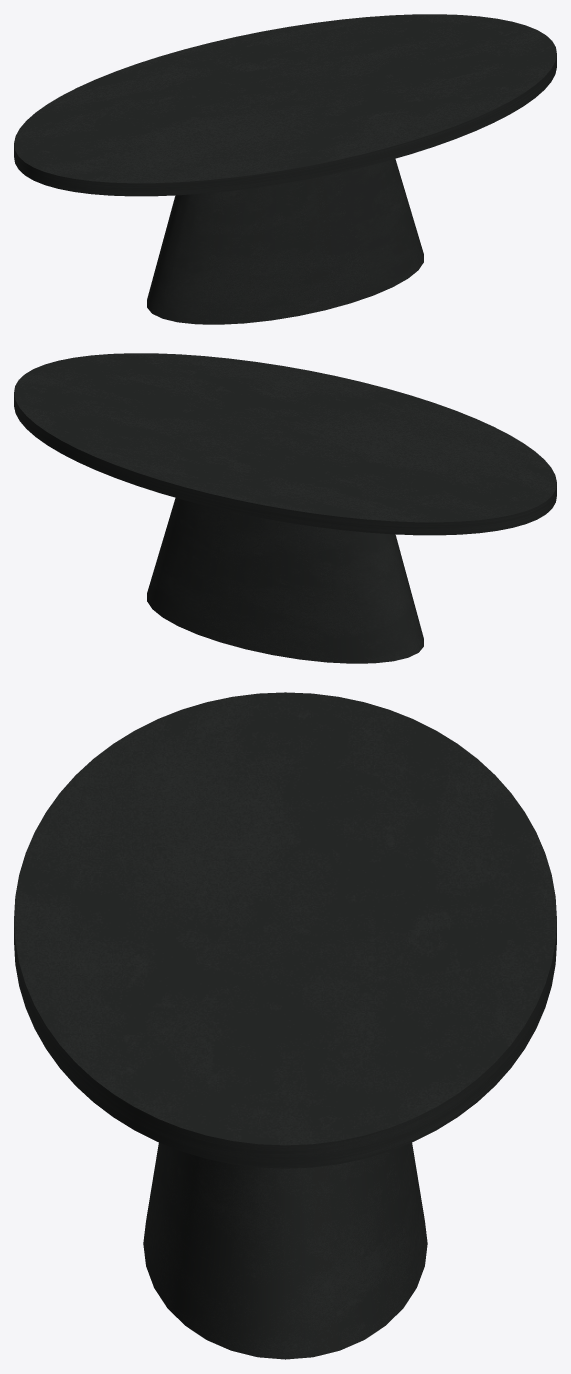
Rendered from darknight_ellips_standard_eqone.glb.
3 views of the same model, one above another, from view 1: azimuth 30°, elevation 25°; view 2: azimuth 150°, elevation 25°; view 3: azimuth 270°, elevation 25° (orthographic). The views are drawn at different scales.
Visible parts, largest first — view 1: darknight_ellipsstandard_eqone; view 2: darknight_ellipsstandard_eqone; view 3: darknight_ellipsstandard_eqone.
Boxes of the visible parts, <box> form: darknight_ellipsstandard_eqone: <box>14,14,556,324</box>; darknight_ellipsstandard_eqone: <box>14,353,556,663</box>; darknight_ellipsstandard_eqone: <box>14,692,556,1359</box>.
Size of the model in its own units: 7.5 by 2.51 by 3.8.
1 material, 1 textured.
